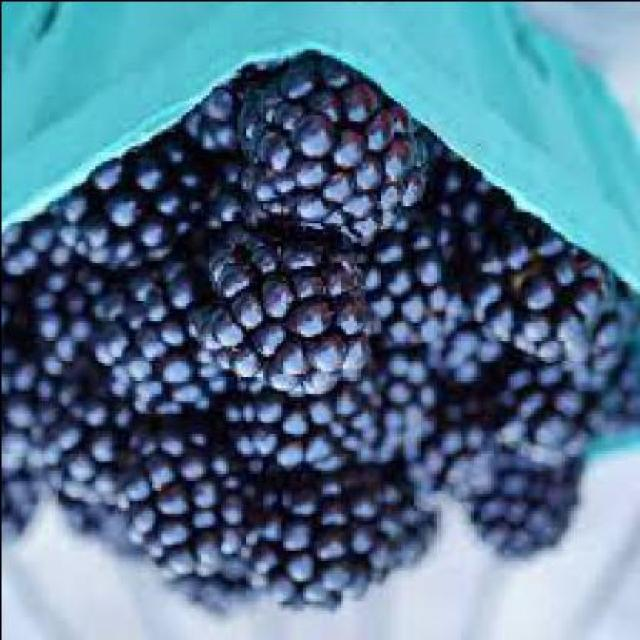BIODEGRADABLE: (226, 74, 409, 246), (202, 234, 369, 395), (12, 149, 212, 266), (500, 314, 606, 495), (2, 357, 111, 522), (91, 265, 211, 414), (257, 491, 397, 608), (128, 423, 235, 566), (462, 454, 580, 562), (234, 385, 374, 475), (329, 355, 440, 465), (572, 252, 640, 431), (372, 231, 466, 351), (28, 265, 128, 366), (46, 405, 135, 518), (418, 126, 511, 214), (475, 228, 569, 313), (423, 405, 494, 506), (368, 485, 438, 586), (425, 323, 511, 394), (160, 563, 257, 617), (180, 75, 242, 157), (58, 497, 132, 552), (3, 212, 62, 277), (2, 477, 42, 542)
